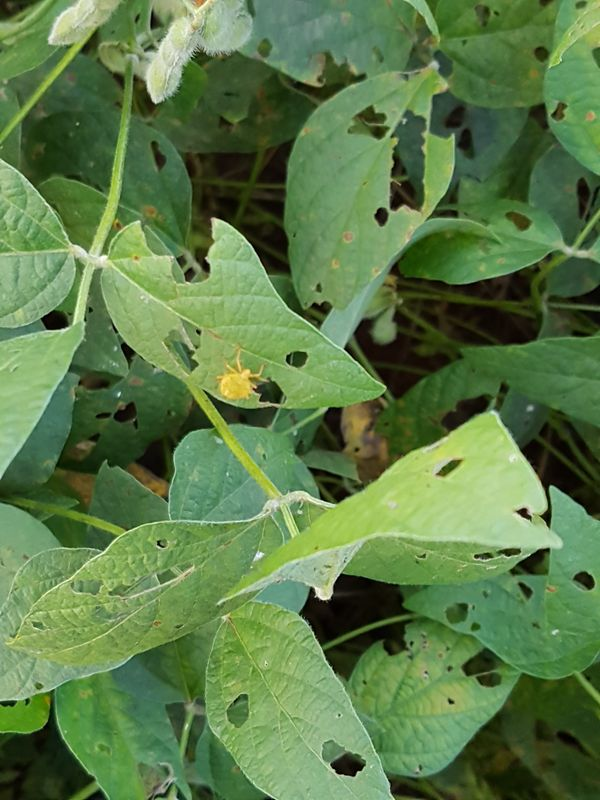Euschistus_heros_ninfa: (210, 346, 272, 408)
